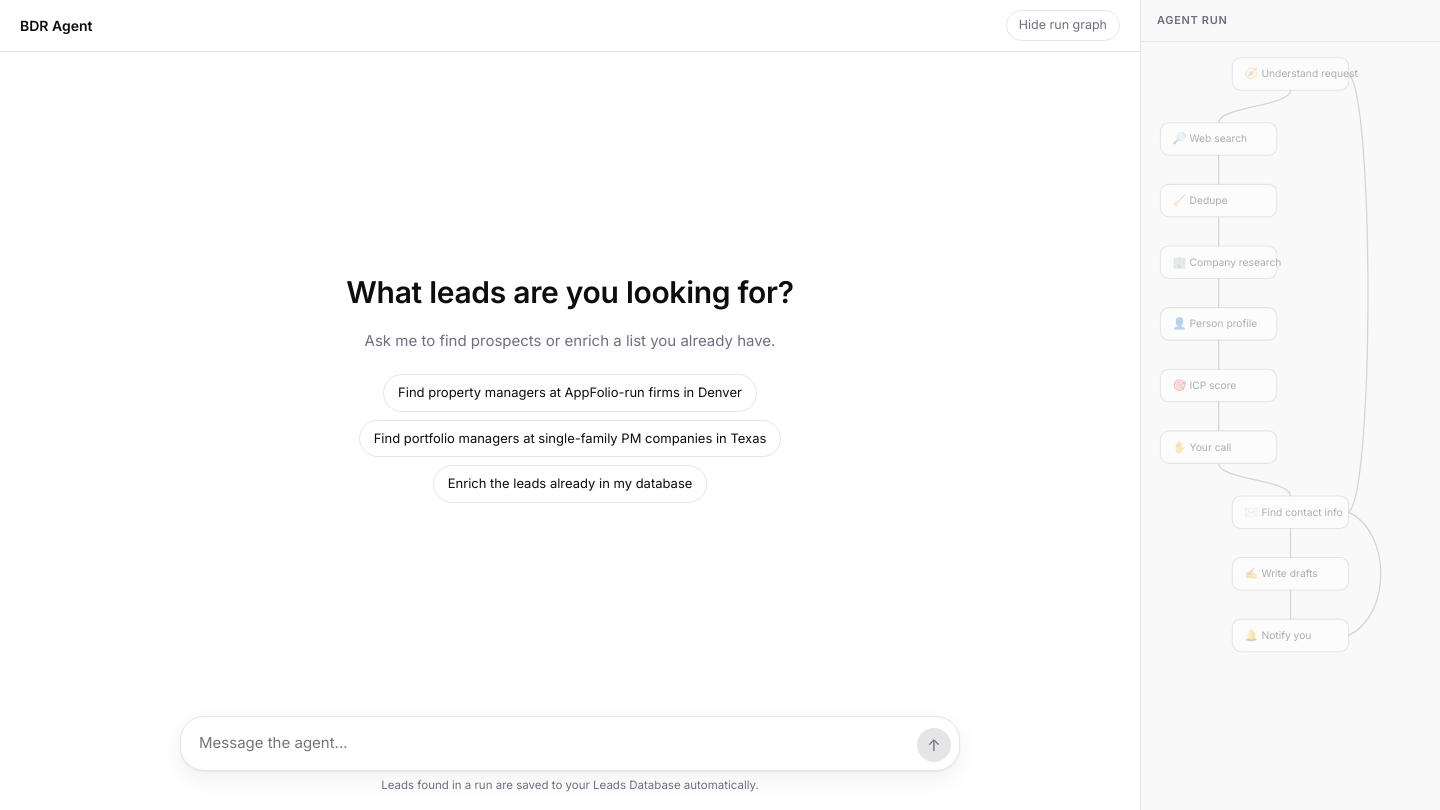
it: Chat page › renders the search results from node events in the chat
Step 1. Type "find VPs" into the text box with placeholder "Message the agent..." → (554,744), box [199, 725, 909, 762]
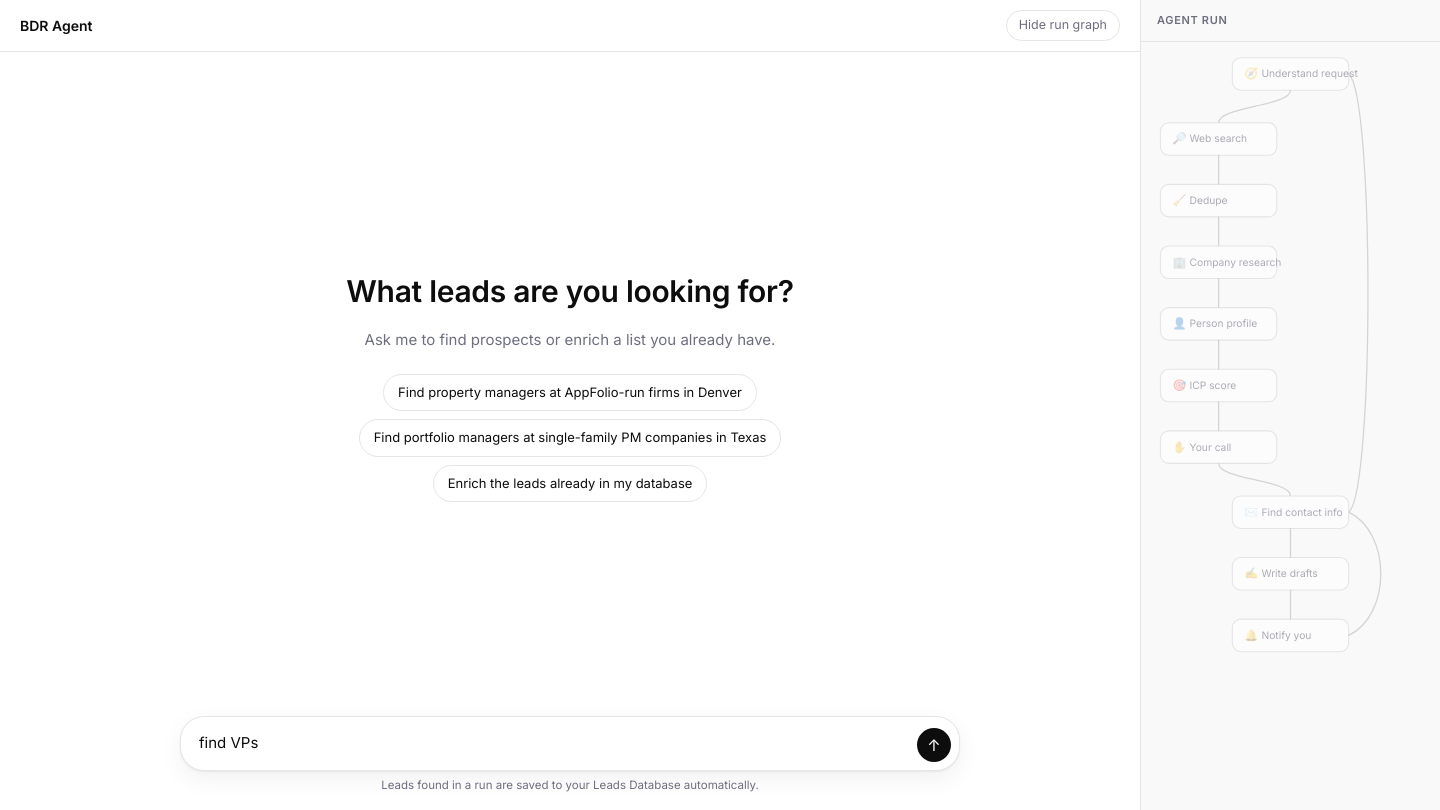
Step 2. Click the button named "Send" → (934,745), box [917, 728, 951, 762]
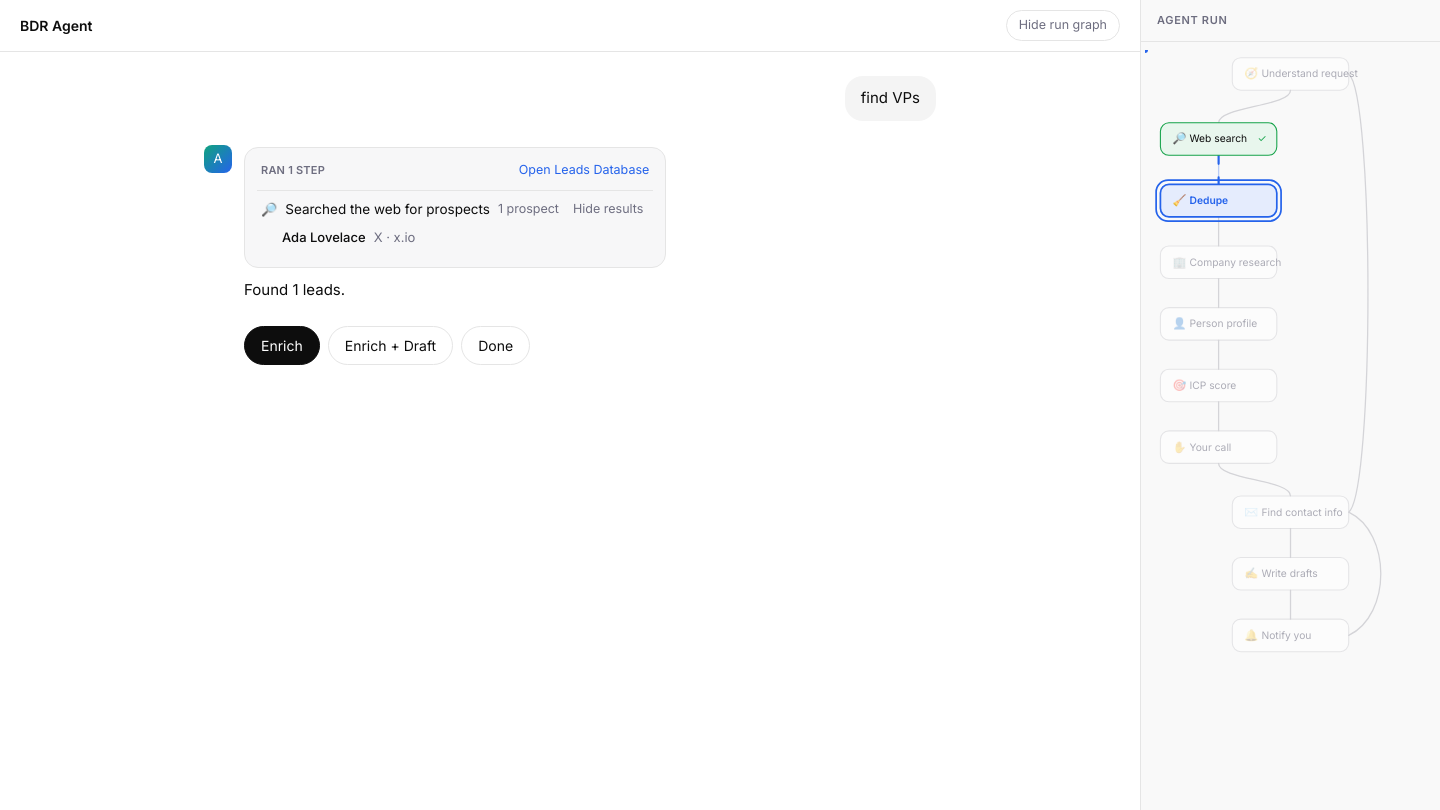
Expected: the text "Searched the web for prospects" is shown, [285, 198, 490, 221]
Expected: the text "1 prospect" is shown, [498, 199, 559, 220]
Expected: the text "Ada Lovelace" is shown, [282, 228, 366, 247]
